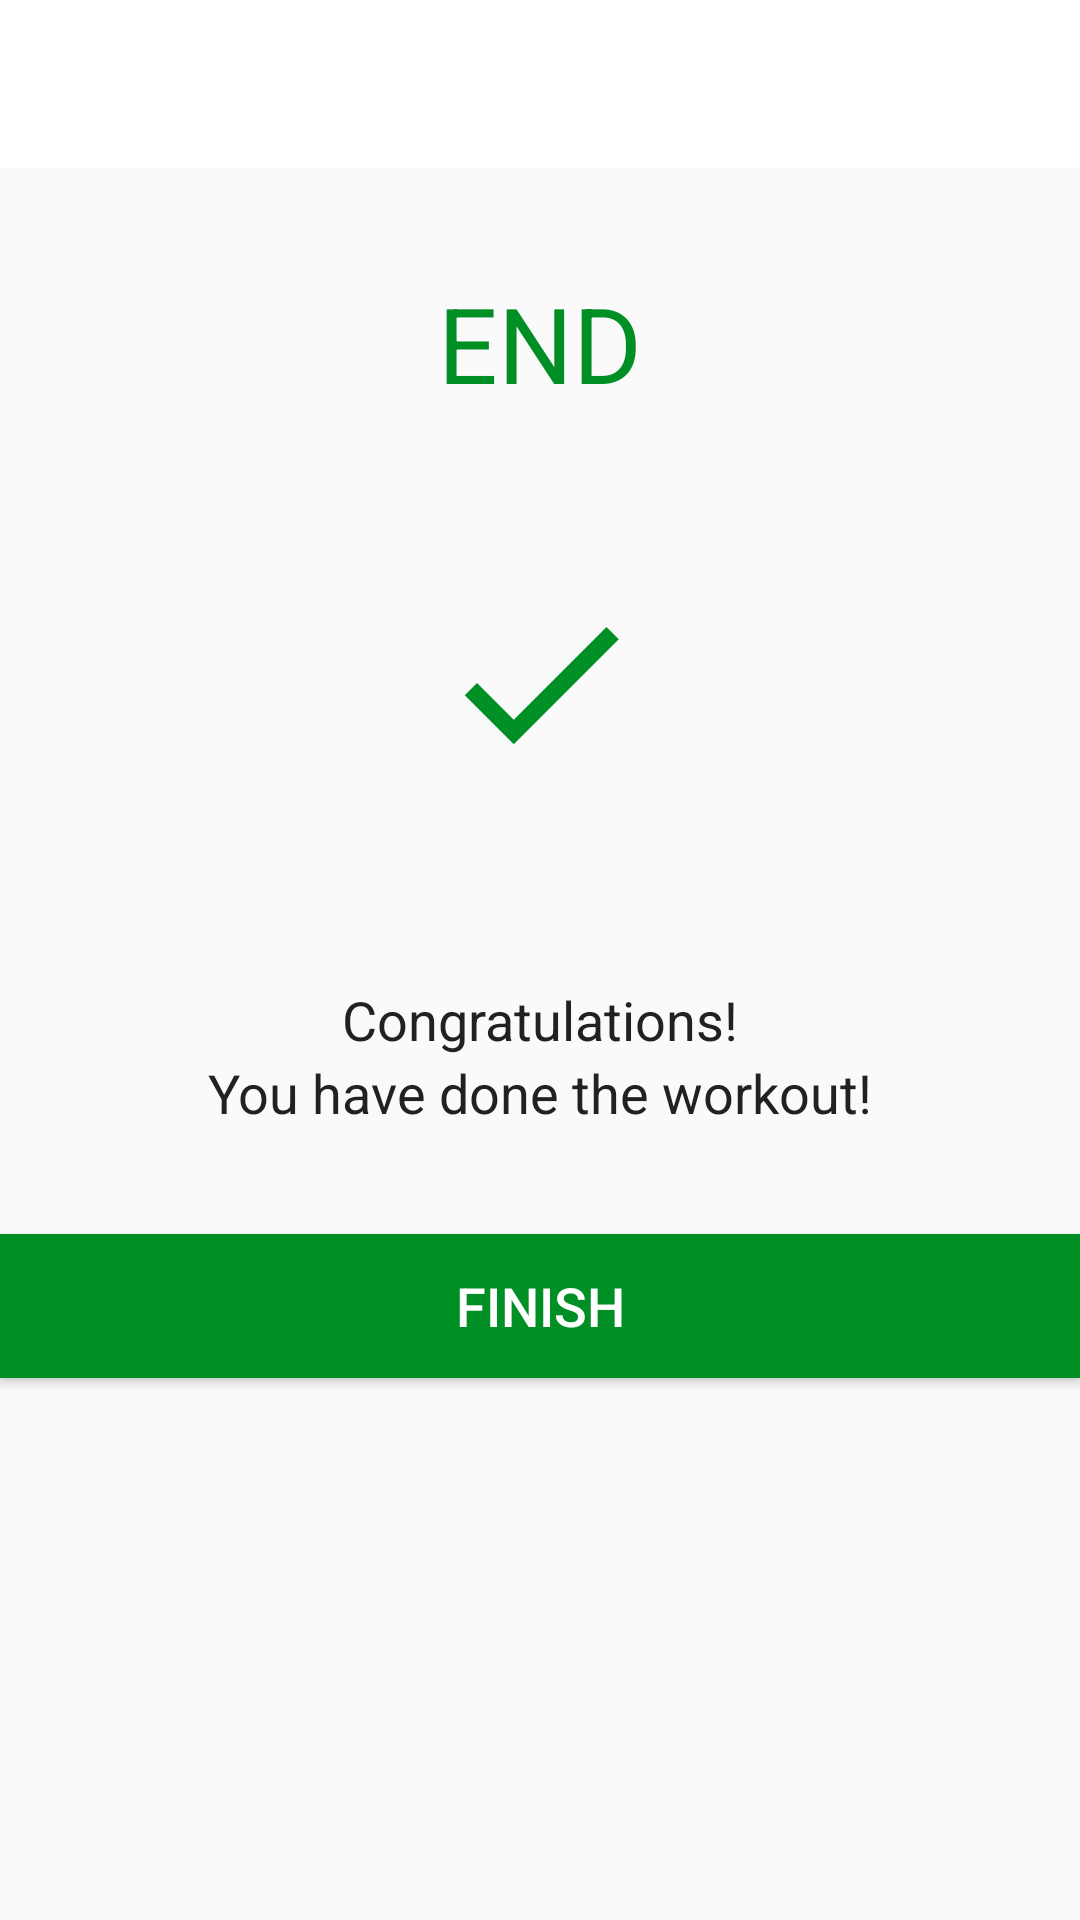

Icons on this 1080*1920 Android screen, each with its box as (x1, y1, x2, y2):
done: (465, 627, 619, 744)
